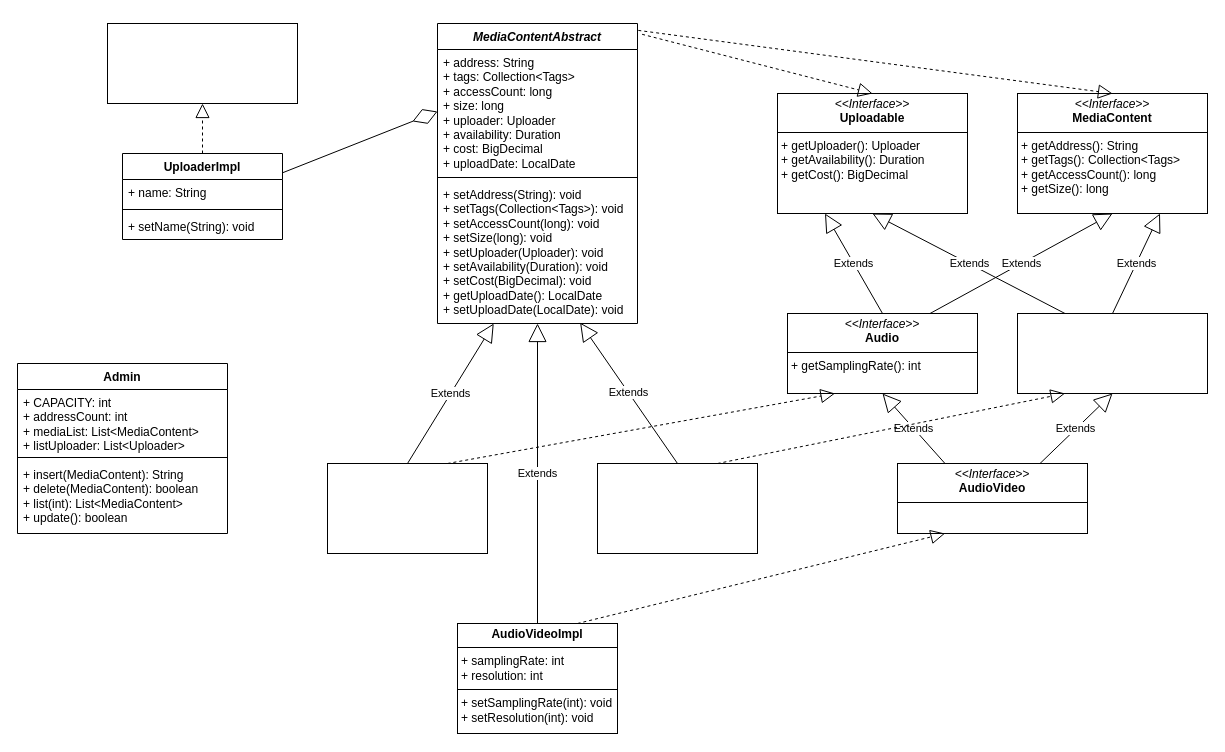
The diagram is 1225 pixels wide and 752 high, and some of its shapes have lost their labels. The shapes that lost their labels are listed below. From the top down, each one's centre as x and y in pixels, then its label:
At point 202,63: "<<Interface>> Uploader + getName(): String".
At point 1112,353: "<<Interface>> Video + getResolution(): int".
At point 407,508: "AudioImpl + samplingRate: int + setSamplingRate(int): void".
At point 677,508: "VideoImpl + resolution: int + setResolution(int): void".
